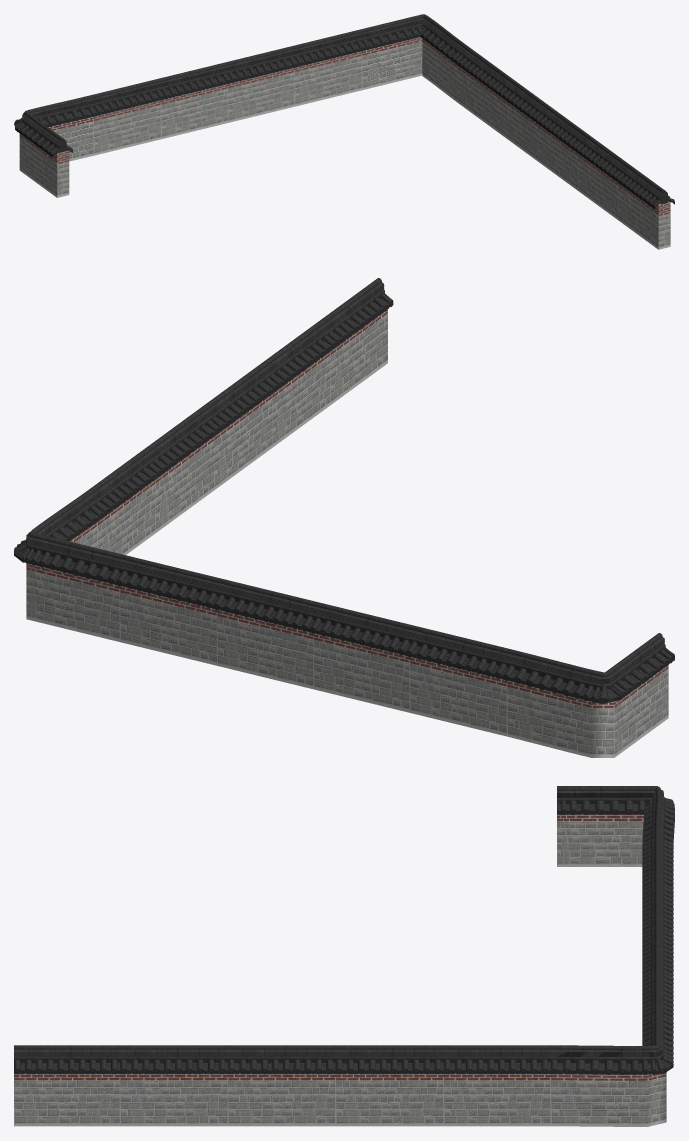
The model's file is SM_DG_HG_StoneWallH_Splines_3.fbx.
The picture shows the model from 3 angles, top to bottom: view 1: azimuth 30°, elevation 25°; view 2: azimuth 150°, elevation 25°; view 3: azimuth 270°, elevation 25°; orthographic projection. The views are drawn at different scales.
Visible parts, largest first — view 1: SM_DG_HG_StoneWallH_Splines_3; view 2: SM_DG_HG_StoneWallH_Splines_3; view 3: SM_DG_HG_StoneWallH_Splines_3.
Part boxes in pixels (box(x1,y1,x2,y2)): SM_DG_HG_StoneWallH_Splines_3: box(14, 14, 674, 249); SM_DG_HG_StoneWallH_Splines_3: box(14, 278, 674, 757); SM_DG_HG_StoneWallH_Splines_3: box(14, 786, 674, 1126).
Size of the model in its own units: 1359 by 1389 by 178.
